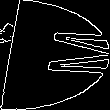M_W: (4, 29, 106, 81)
